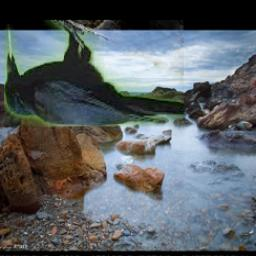Crow: (5, 21, 185, 127)
